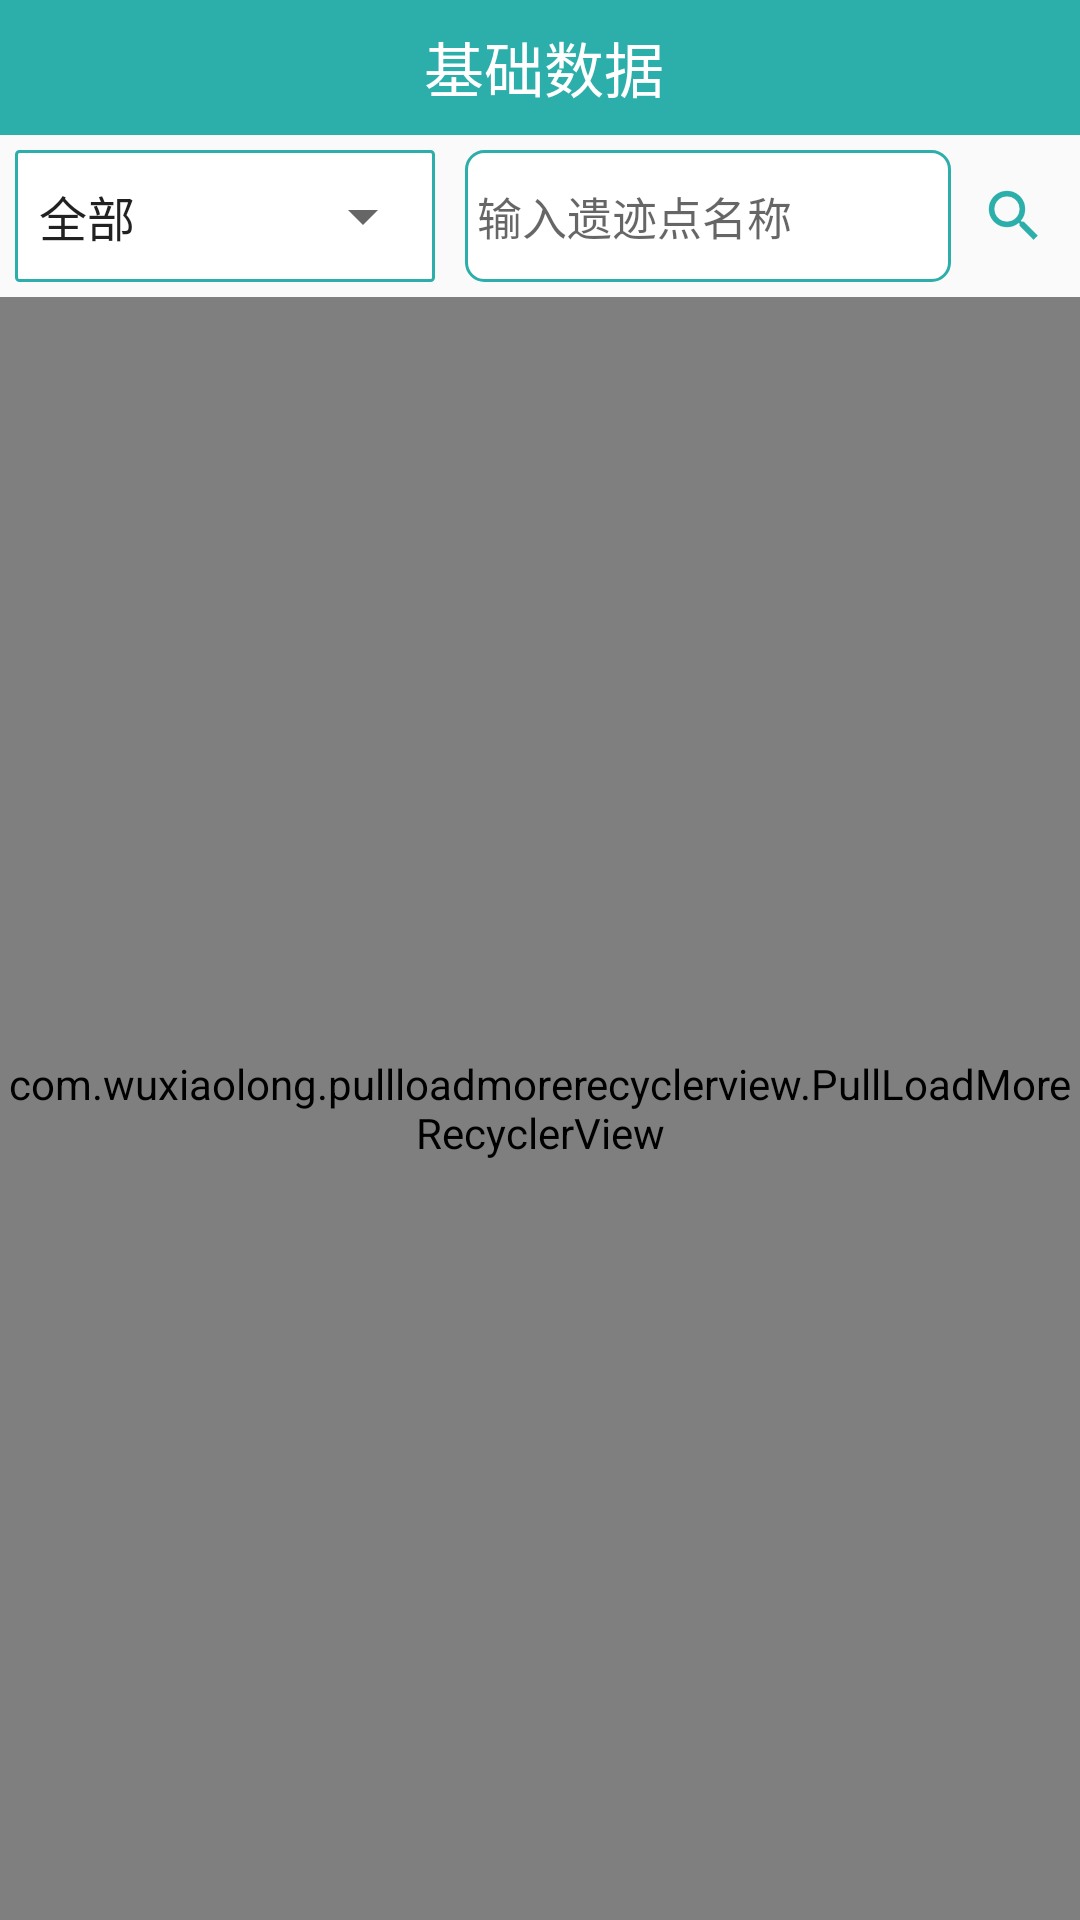

Icon click points for this 1080w x 1920h phone screenshot, format (x,y):
search: (1013,215)
